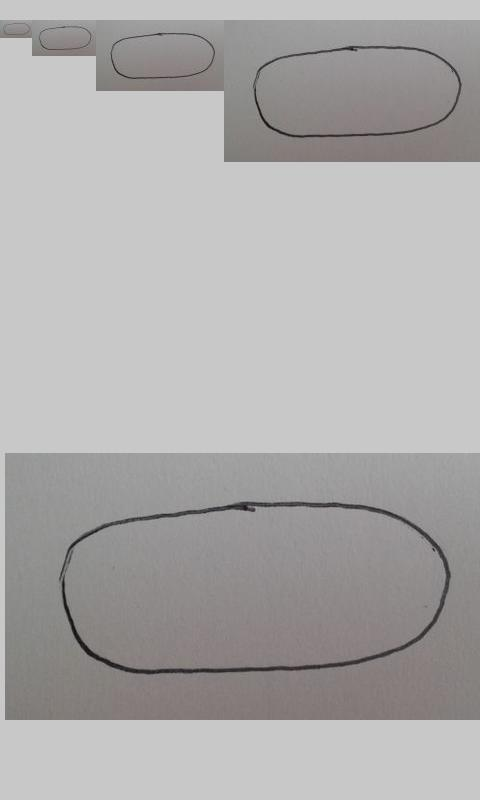chip: (58, 501, 452, 675), (253, 46, 462, 138), (110, 32, 217, 80), (39, 26, 92, 51), (3, 22, 31, 36)
